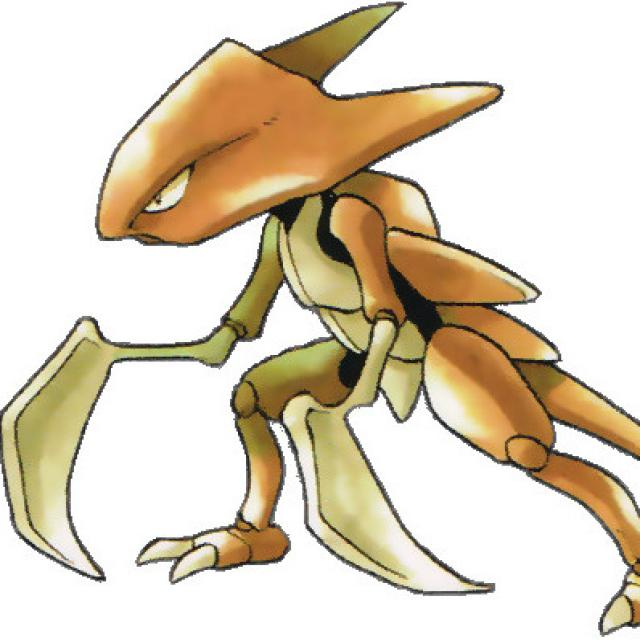Kabutops: (6, 28, 562, 575)
